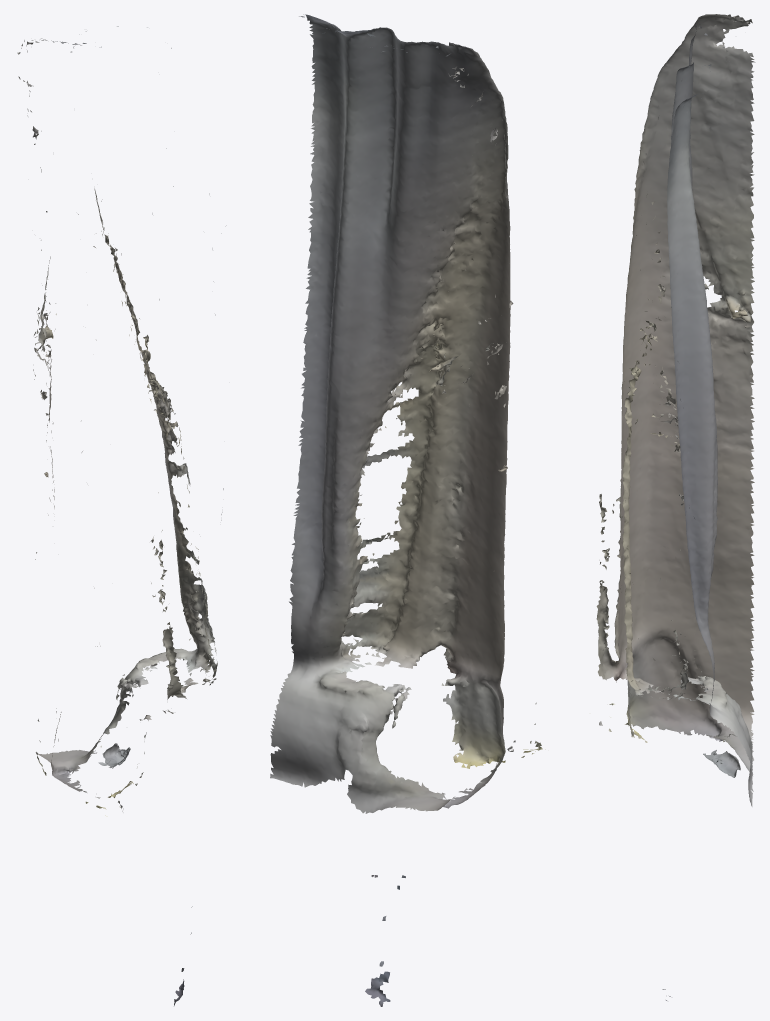
The model's file is apartment-full-70-7d0a7e762f92.glb.
3 renders of one model, left to right at view 1: azimuth 30°, elevation 25°; view 2: azimuth 150°, elevation 25°; view 3: azimuth 270°, elevation 25°, orthographic. The views are drawn at different scales.
Size of the model in its own units: 0.548 by 2.38 by 0.405.
